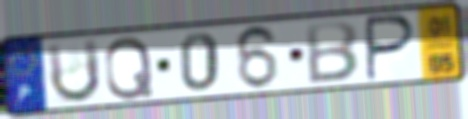0: (177, 30, 221, 95)
6: (233, 22, 285, 94)
B: (304, 19, 361, 86)
P: (364, 13, 419, 85)
Q: (102, 34, 156, 102)
U: (43, 37, 104, 107)
